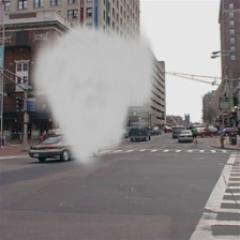smoke: (26, 18, 160, 170)
